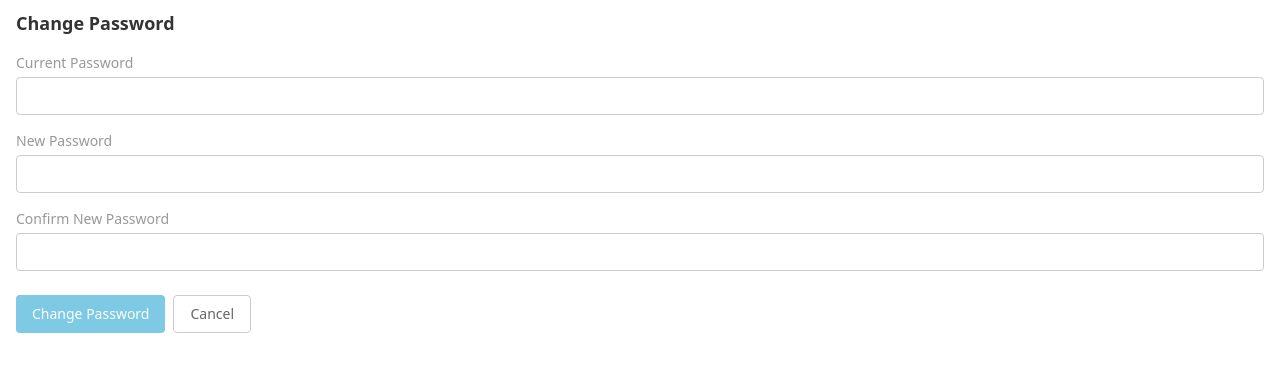
ChangePasswordPanel › shows error when passwords do not match
The image size is (1280, 386).
In the password field below "Current Password": (640, 96) [16,77,1264,115], type "current123"
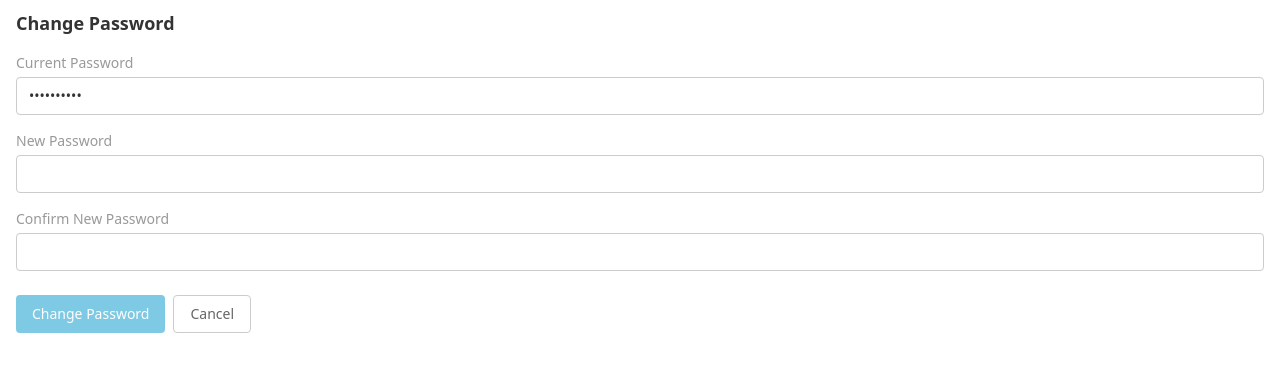
In the 2nd password field: (640, 174) [16,155,1264,193], type "newpass12"
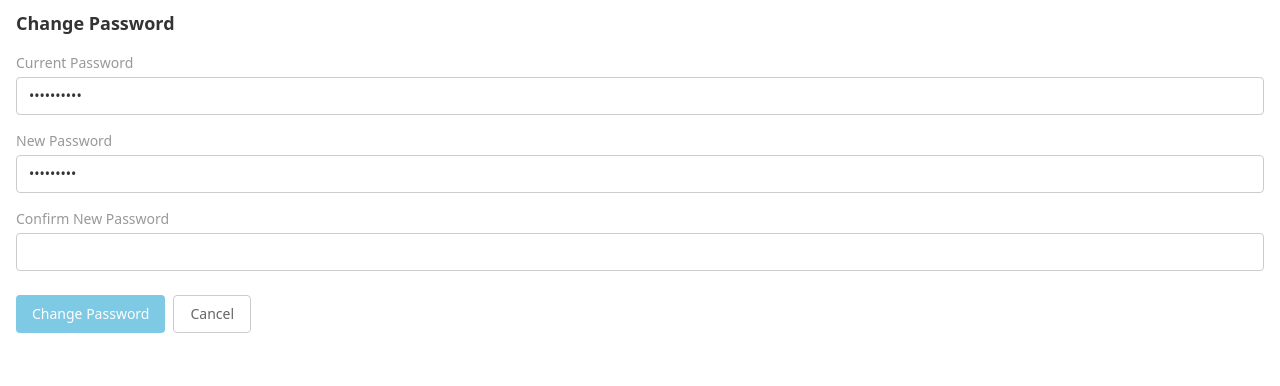
In the password field below "Confirm New Password": (640, 252) [16,233,1264,271], type "mismatch1"
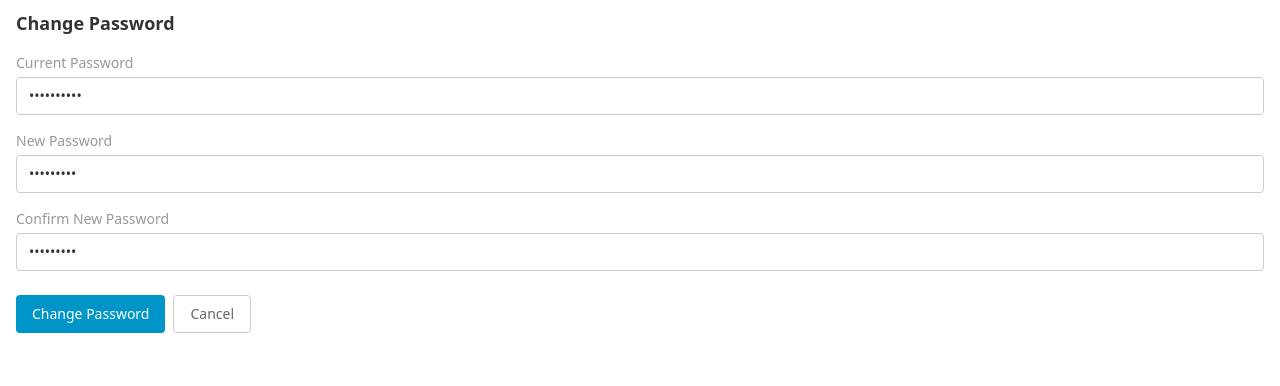
Click the button "Change Password": (91, 314) [16,295,166,333]
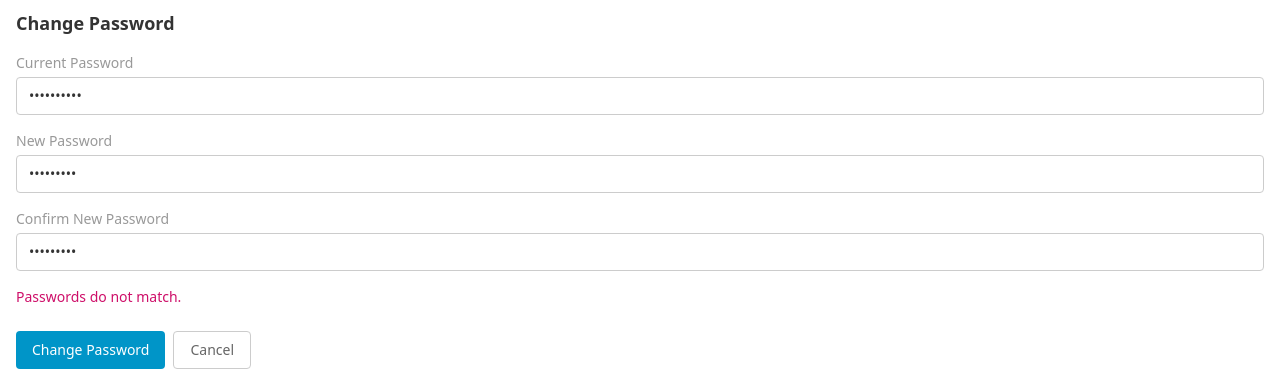
Result: the text "Passwords do not match." is shown at [16,287,181,306]
